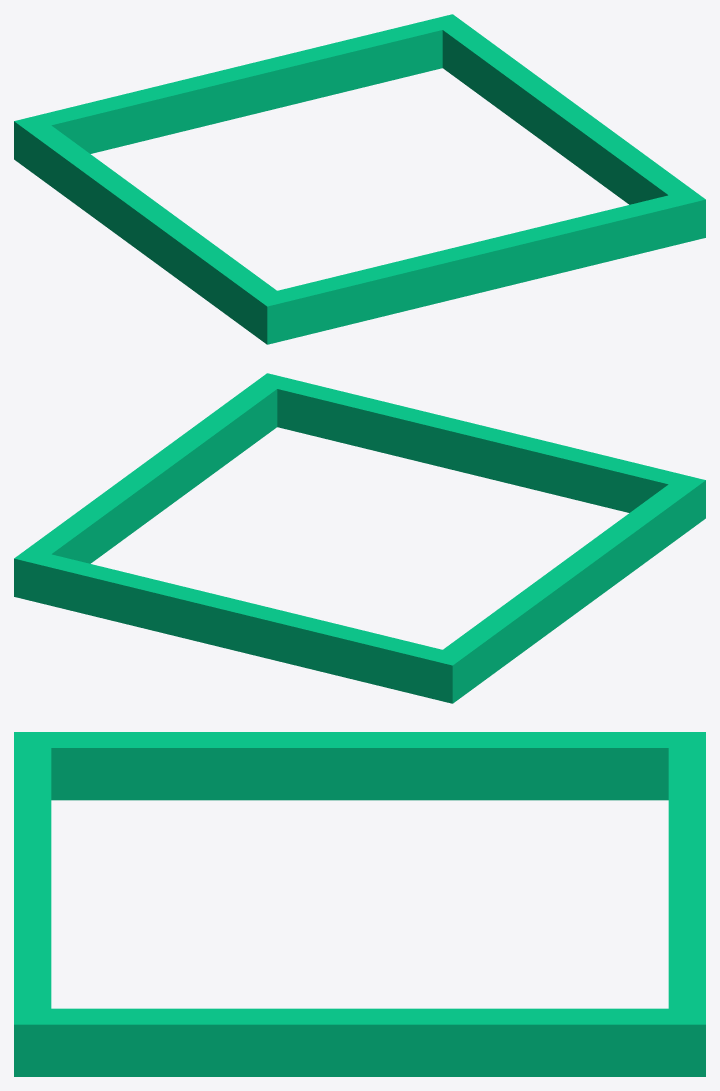
Rendered from framegreen.glb.
The picture shows the model from 3 angles, top to bottom: view 1: azimuth 30°, elevation 25°; view 2: azimuth 150°, elevation 25°; view 3: azimuth 270°, elevation 25°; orthographic projection. The views are drawn at different scales.
Visible parts, largest first — view 1: Cube; view 2: Cube; view 3: Cube.
Part boxes in pixels (box(x1,y1,x2,y2)): Cube: box(14, 14, 705, 344); Cube: box(14, 373, 705, 703); Cube: box(14, 732, 705, 1076).
Size of the model in its own units: 6 by 0.5 by 6.
